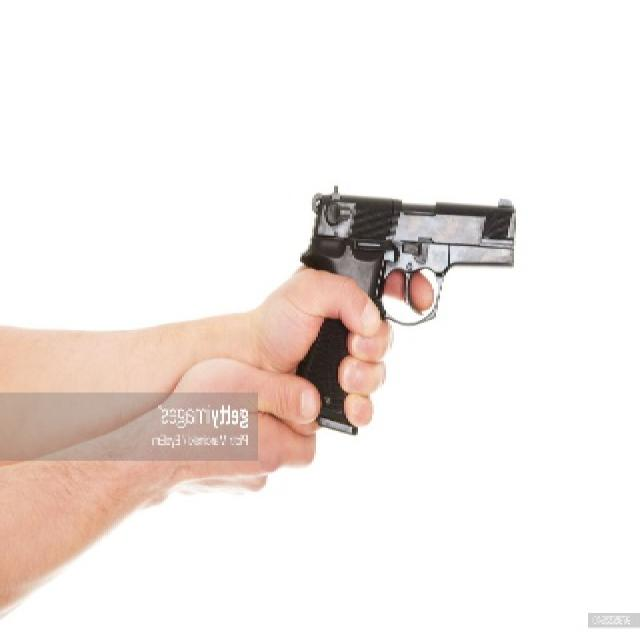handgun: (301, 192, 523, 440)
